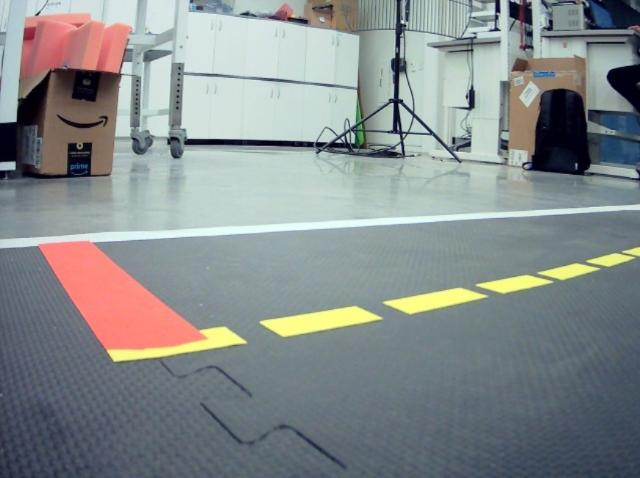redline: (37, 242, 206, 352)
whiteline: (0, 205, 640, 249)
yellowline: (104, 246, 640, 363)
